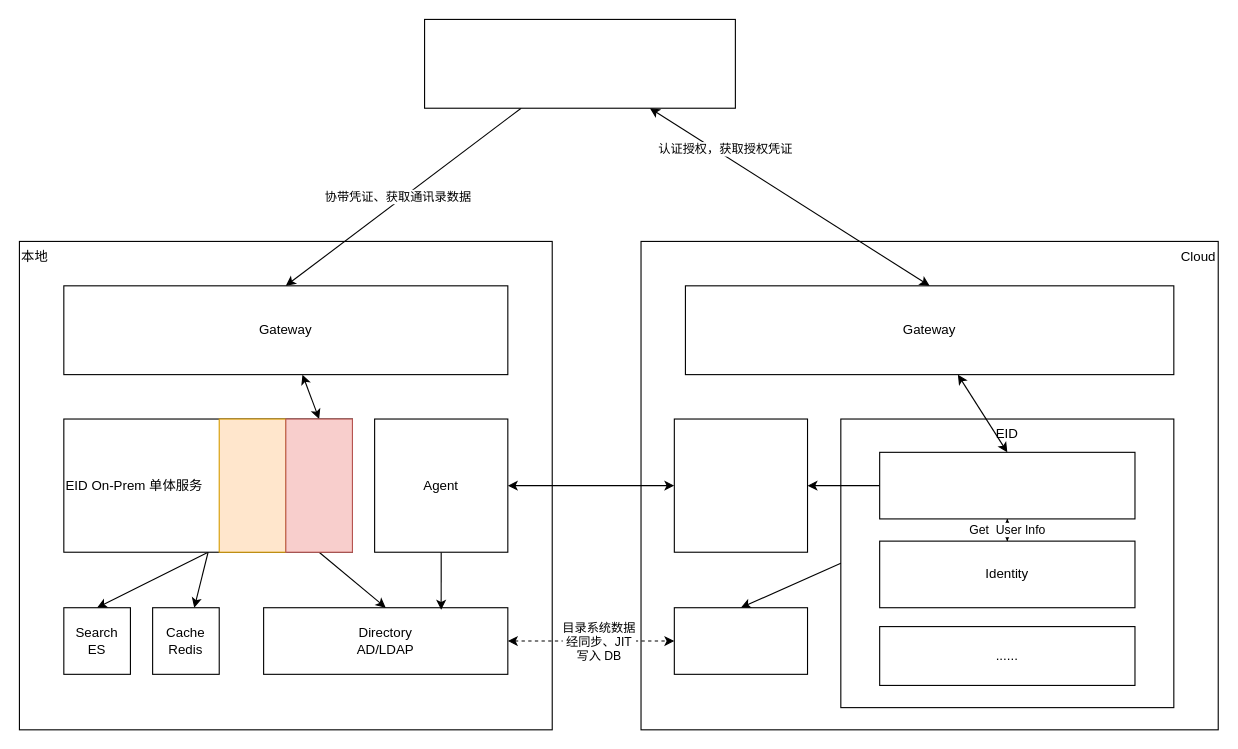
The diagram is 1238 pixels wide and 749 high, and some of its shapes have lost their labels. The centre of each missing label's shape, as x and y in pixels:
"Authz" goes at (1007,485).
"DB" goes at (740,640).
"MQ" goes at (740,485).
"openapi" goes at (318,485).
"token" goes at (252,485).
"会议 App" goes at (579,63).
